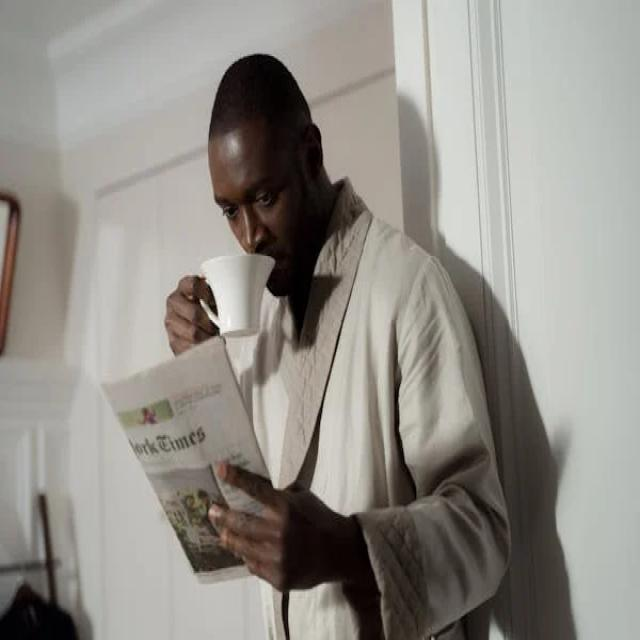Real human 2: (148, 26, 520, 640)
